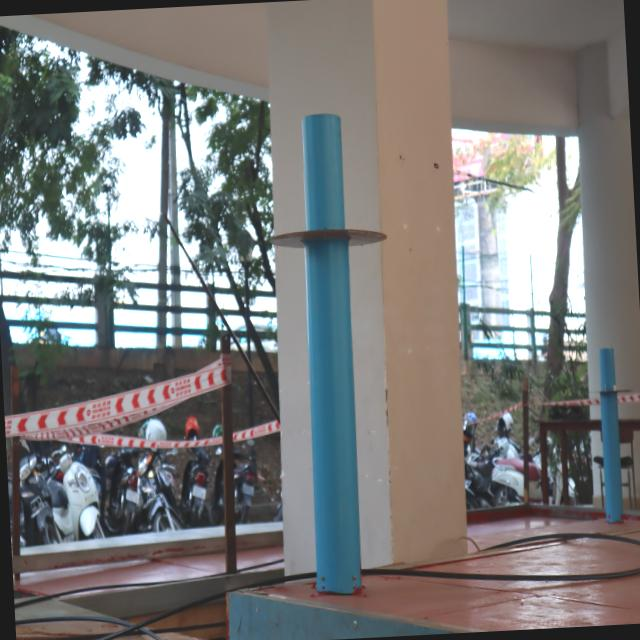pole: (254, 111, 396, 326), (588, 345, 633, 432)
